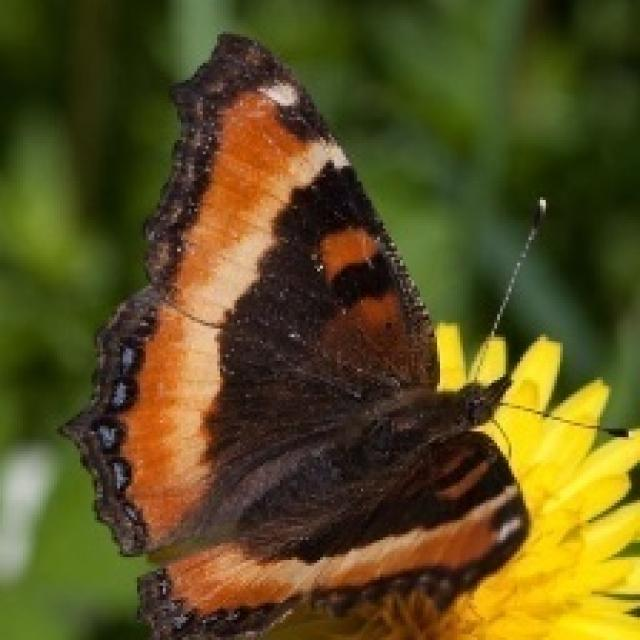butterfly: (54, 29, 637, 637)
